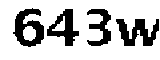3: (86, 6, 115, 50)
4: (46, 7, 80, 51)
6: (9, 7, 46, 47)
w: (114, 12, 160, 52)
